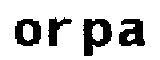a: (117, 16, 147, 51)
o: (12, 18, 45, 50)
p: (82, 16, 115, 60)
r: (46, 16, 74, 52)
